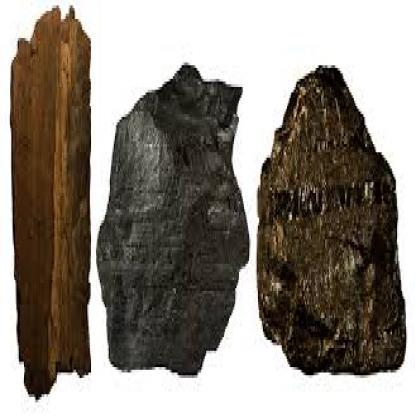Sedimentary_coal: (101, 57, 252, 373), (261, 57, 407, 375), (5, 2, 91, 400)
